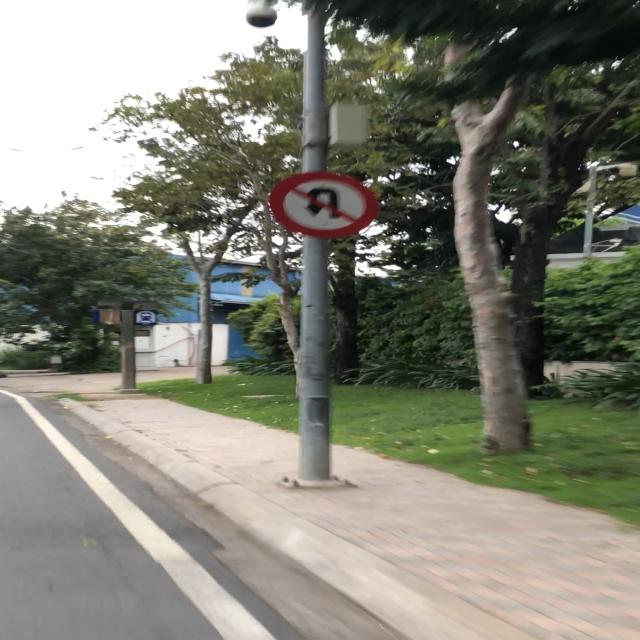Bien bao cam quay dau xe: (267, 168, 386, 238)
